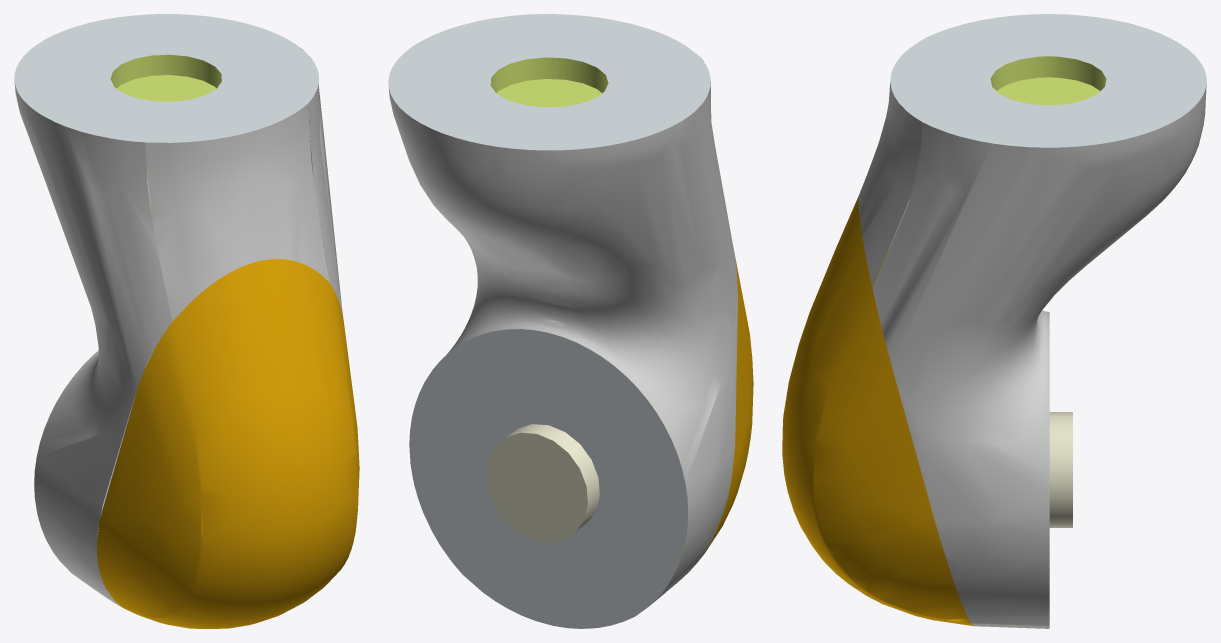
File: IIWA14_Link4.dae
3 views of the same model, side by side, from view 1: azimuth 30°, elevation 25°; view 2: azimuth 150°, elevation 25°; view 3: azimuth 270°, elevation 25° (orthographic). The views are drawn at different scales.
Visible parts, largest first — view 1: MeshFeature4_002; view 2: MeshFeature4_002; view 3: MeshFeature4_002.
Part boxes in pixels (<box>): MeshFeature4_002: <box>14,14,359,628</box>; MeshFeature4_002: <box>388,14,753,628</box>; MeshFeature4_002: <box>782,14,1206,628</box>.
Bounding box in the file's own units: 0.136 × 0.1825 × 0.2525.
